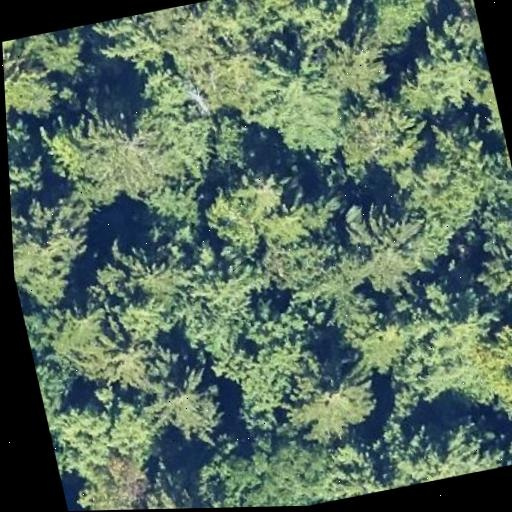tree-top: (152, 219, 278, 364), (203, 293, 328, 422), (371, 274, 493, 406), (394, 127, 511, 255), (86, 227, 191, 352), (194, 419, 339, 508), (324, 191, 444, 298), (242, 49, 354, 163), (60, 94, 171, 208), (370, 406, 509, 490), (321, 78, 433, 182), (10, 191, 109, 308), (247, 190, 356, 296), (274, 346, 381, 440), (193, 161, 297, 253), (396, 22, 486, 119), (231, 0, 364, 63), (149, 0, 244, 84), (138, 361, 231, 440), (310, 21, 398, 103), (43, 293, 130, 375), (65, 443, 168, 511), (94, 9, 177, 87), (308, 254, 383, 340), (304, 431, 393, 503), (47, 400, 122, 485), (451, 231, 512, 321), (5, 103, 51, 205), (470, 308, 512, 414), (471, 157, 512, 255), (140, 462, 219, 509), (2, 35, 45, 120), (367, 0, 446, 44), (463, 55, 504, 136), (39, 24, 95, 79), (439, 0, 484, 50), (501, 389, 512, 463), (347, 0, 458, 2)
